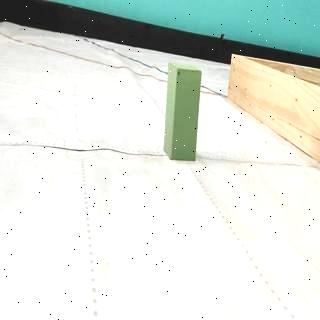greenbox: (166, 64, 202, 162)
